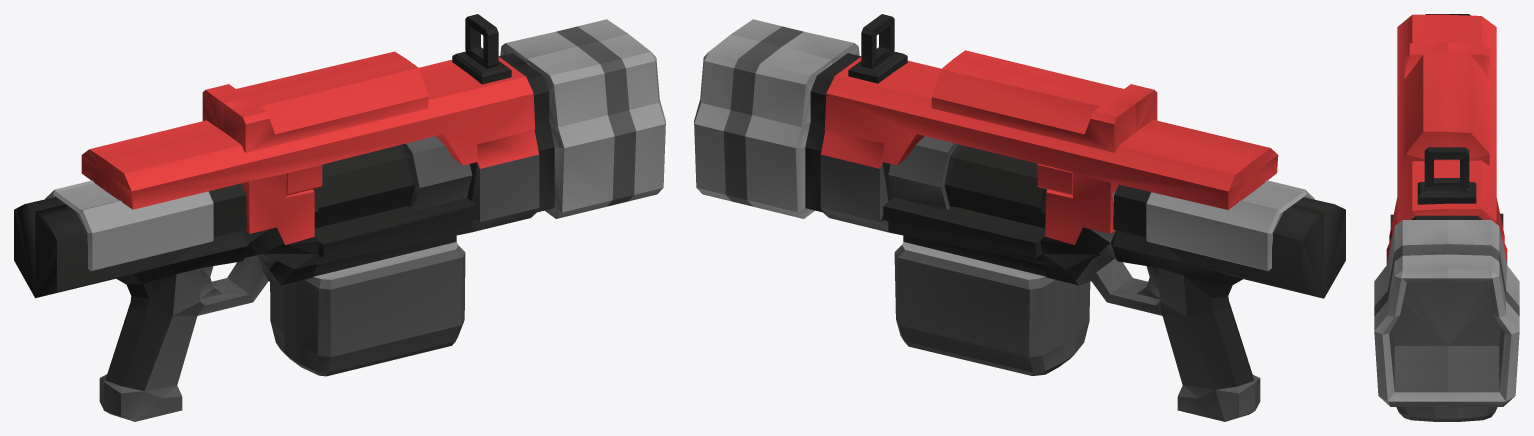
File: Rocket Gun.fbx
3 renders of one model, left to right at view 1: azimuth 30°, elevation 25°; view 2: azimuth 150°, elevation 25°; view 3: azimuth 270°, elevation 25°, orthographic.
Visible parts, largest first — view 1: Mesh; view 2: Mesh; view 3: Mesh.
Part boxes in pixels (x1=…): Mesh: x1=14, y1=14, x2=665, y2=421; Mesh: x1=694, y1=14, x2=1345, y2=421; Mesh: x1=1374, y1=14, x2=1519, y2=421.
Size of the model in its own units: 98.48 by 20.9 by 47.46.
